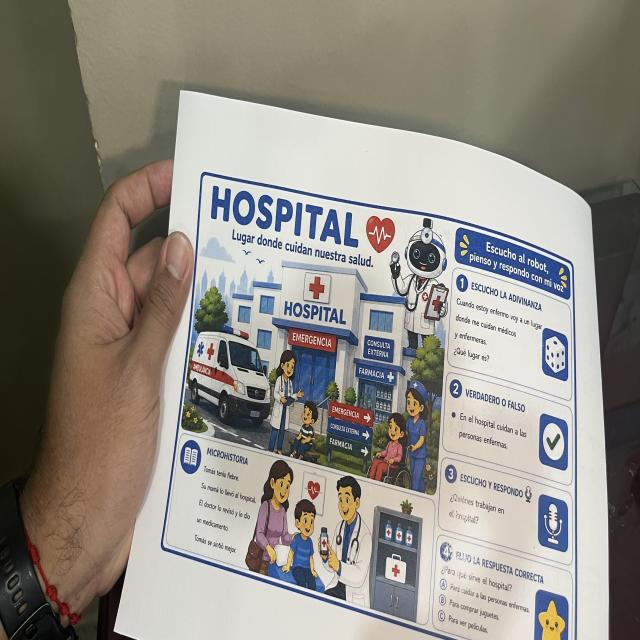hospital: (158, 166, 579, 640)
